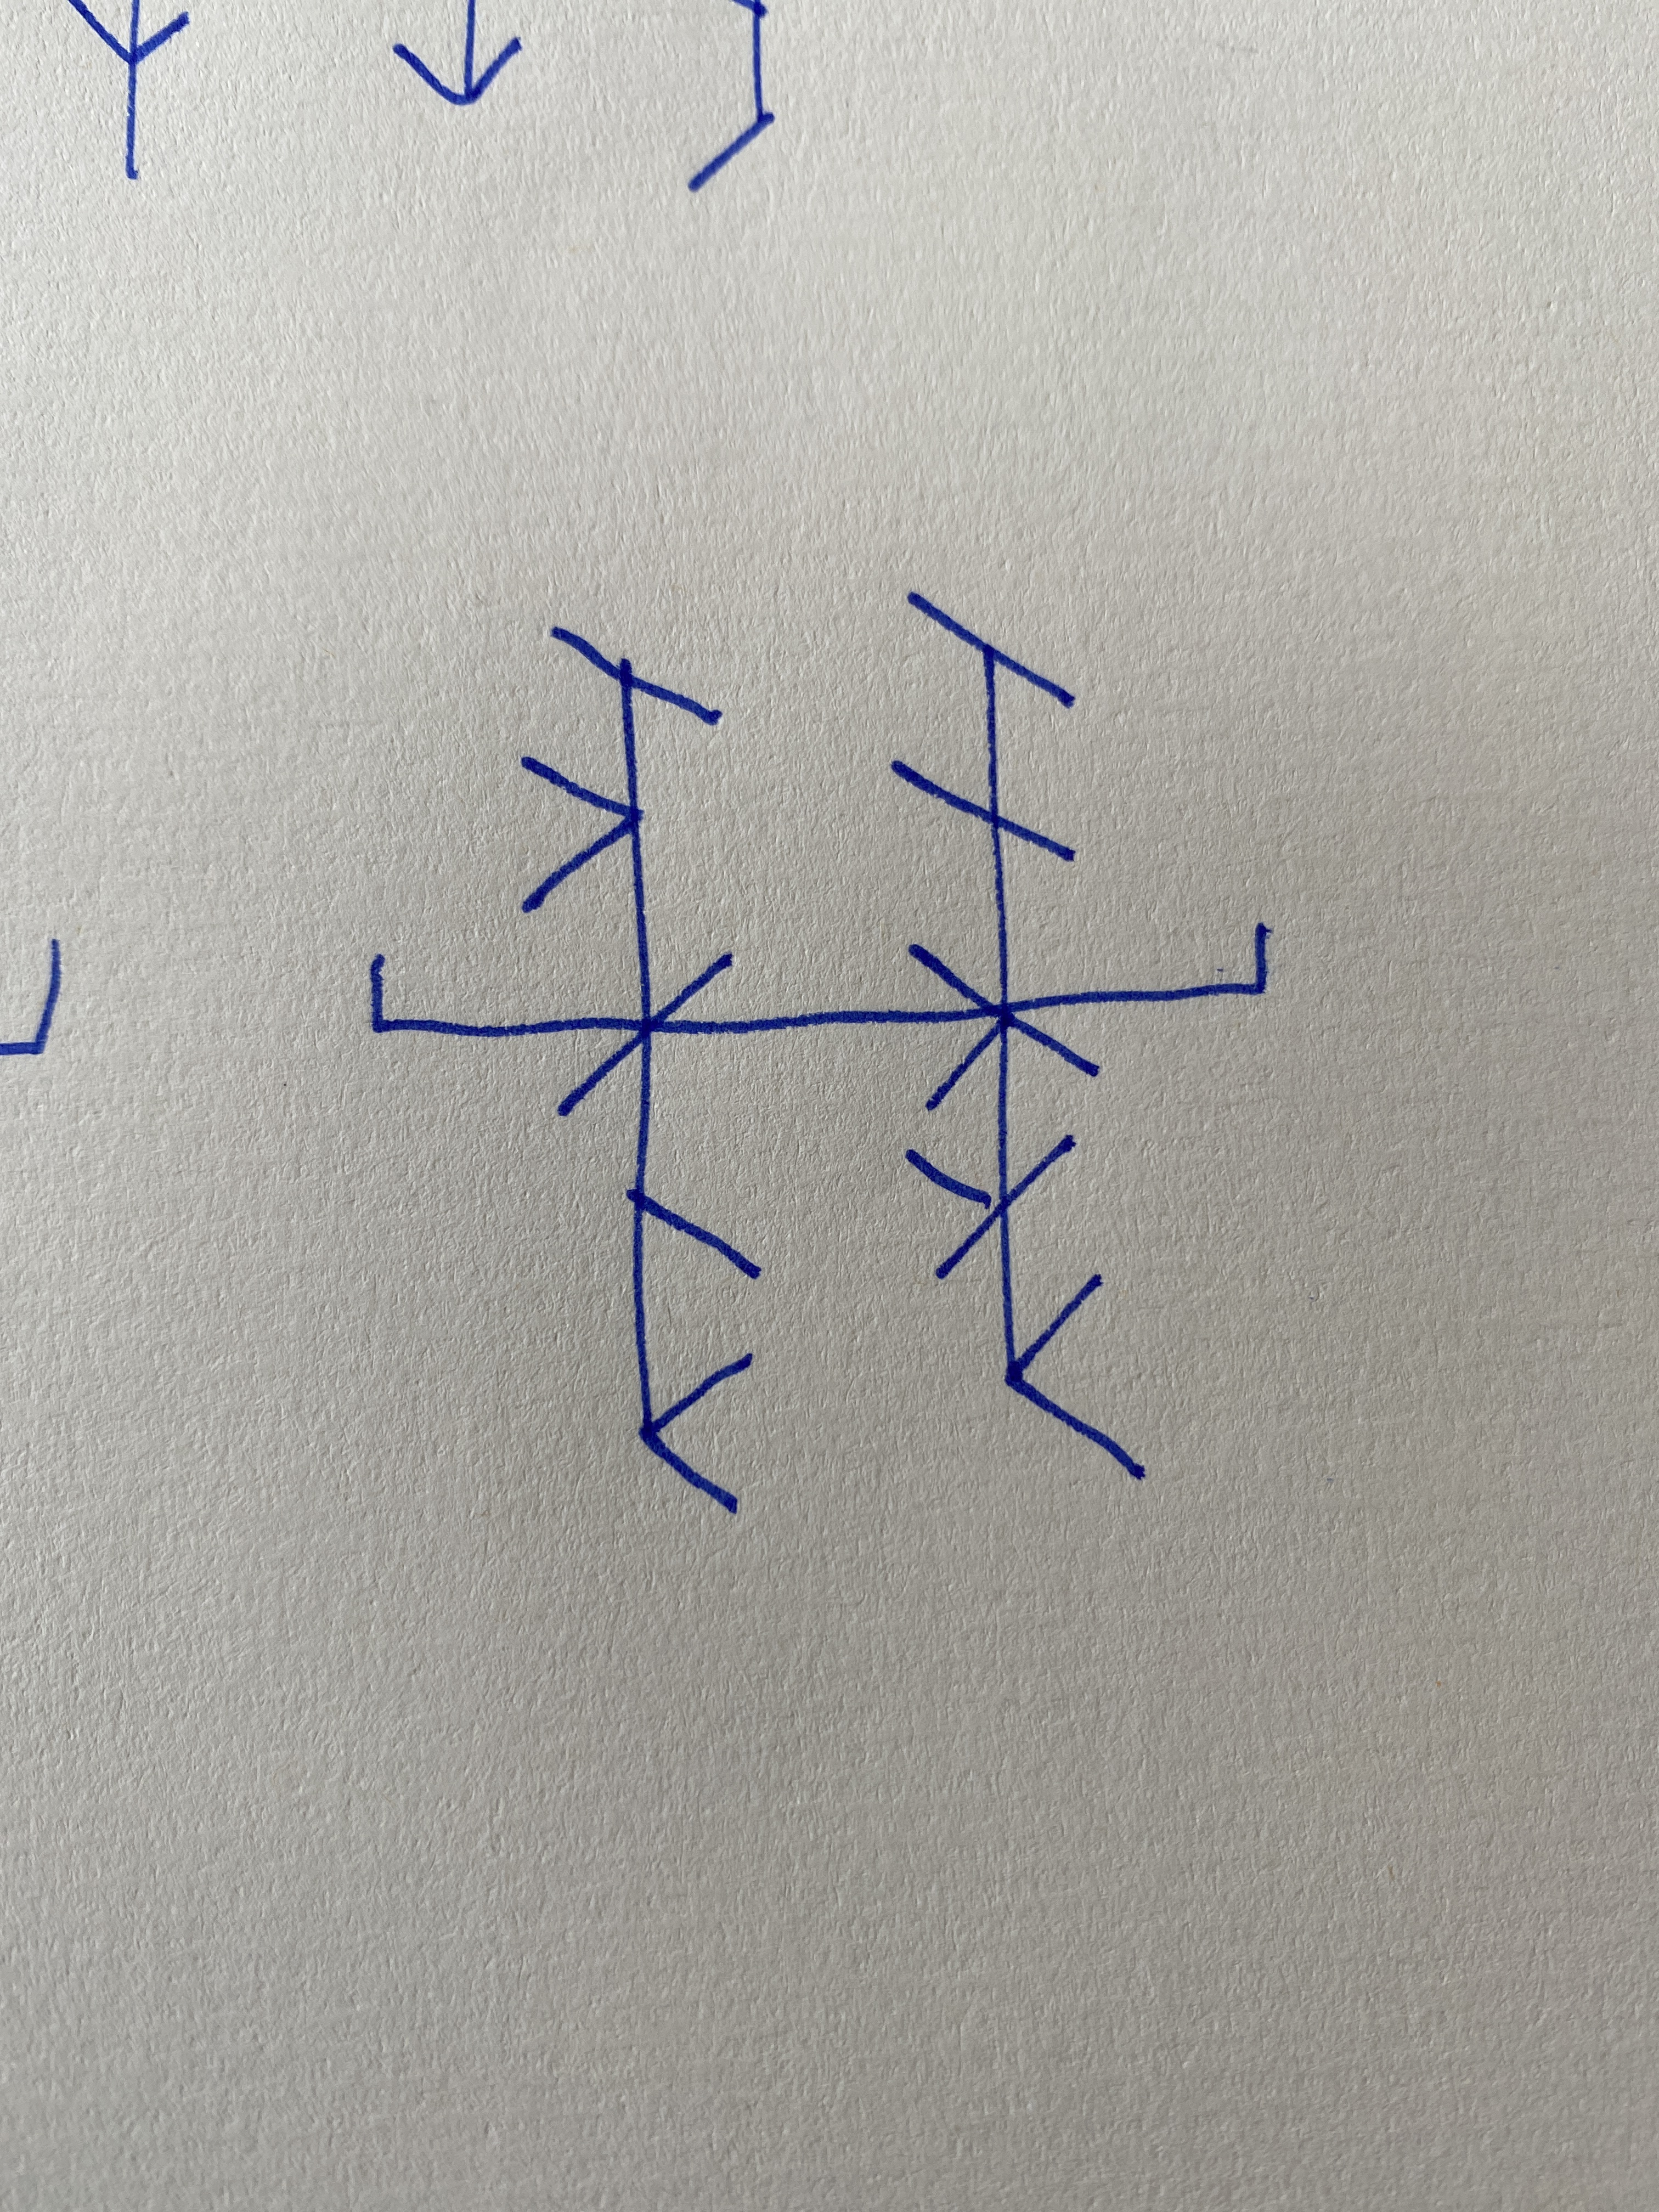Bar: (889, 590, 1147, 1484), (519, 625, 763, 1510)
Barcode: (368, 587, 1270, 1510)
End: (1009, 923, 1269, 1014)
Start: (368, 944, 631, 1038)
